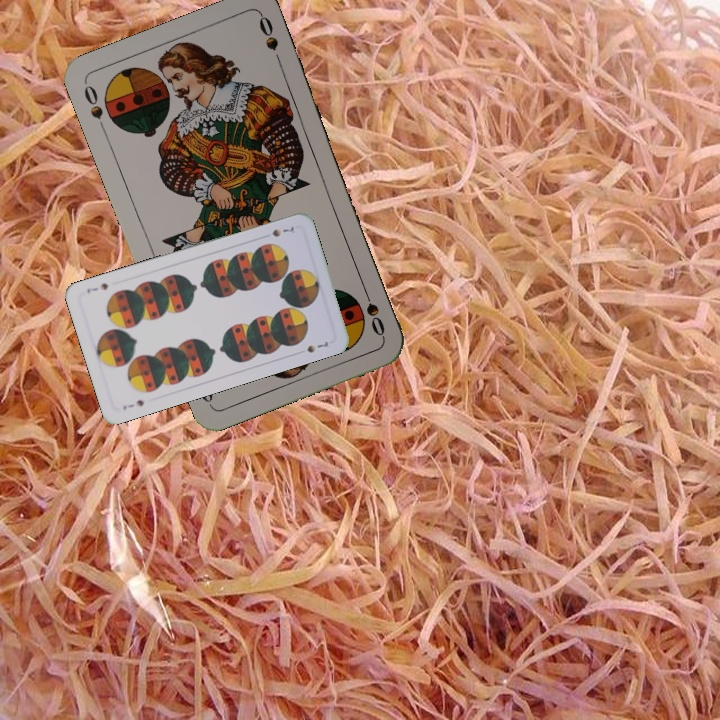S7: (268, 222, 297, 239), (119, 396, 146, 413)
SO: (358, 283, 388, 339), (79, 81, 109, 136)
